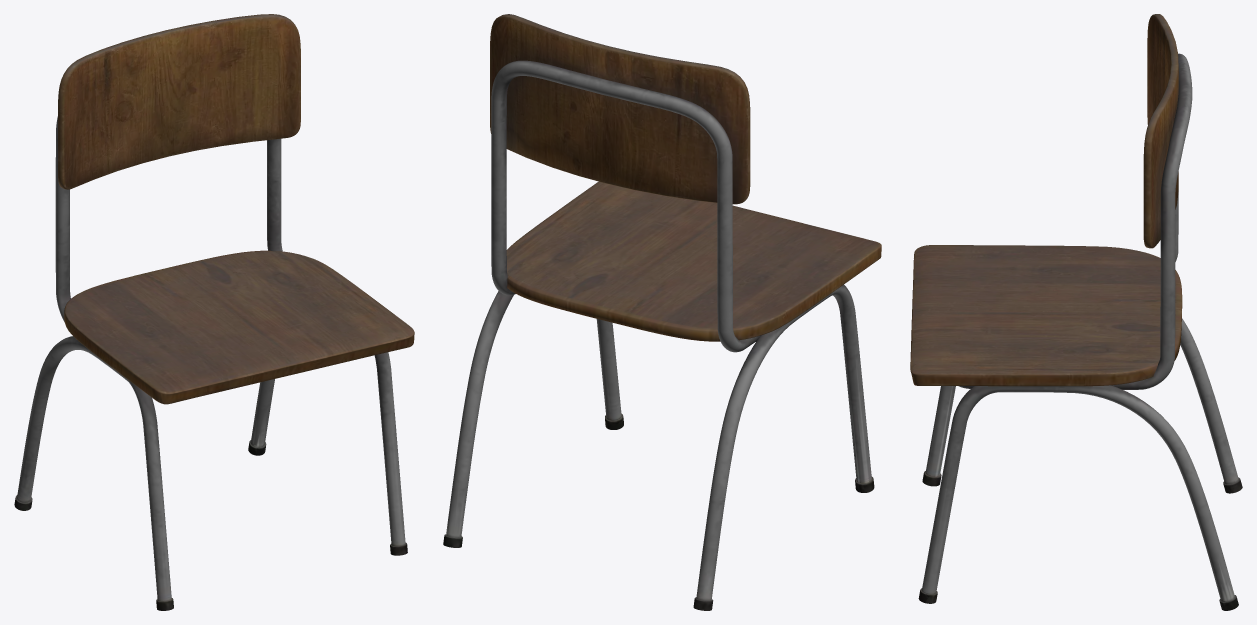
The picture shows the model from 3 angles, left to right: view 1: azimuth 30°, elevation 25°; view 2: azimuth 150°, elevation 25°; view 3: azimuth 270°, elevation 25°; orthographic projection. The views are drawn at different scales.
Parts seen in each view (by area): view 1: yizi; view 2: yizi; view 3: yizi.
Part boxes in pixels (left/top/right/bottom): yizi: left=14, top=14, right=414, bottom=610; yizi: left=443, top=14, right=881, bottom=610; yizi: left=910, top=14, right=1242, bottom=610.
Size of the model in its own units: 0.4909 by 0.8557 by 0.5294.
1 material, 1 textured.
